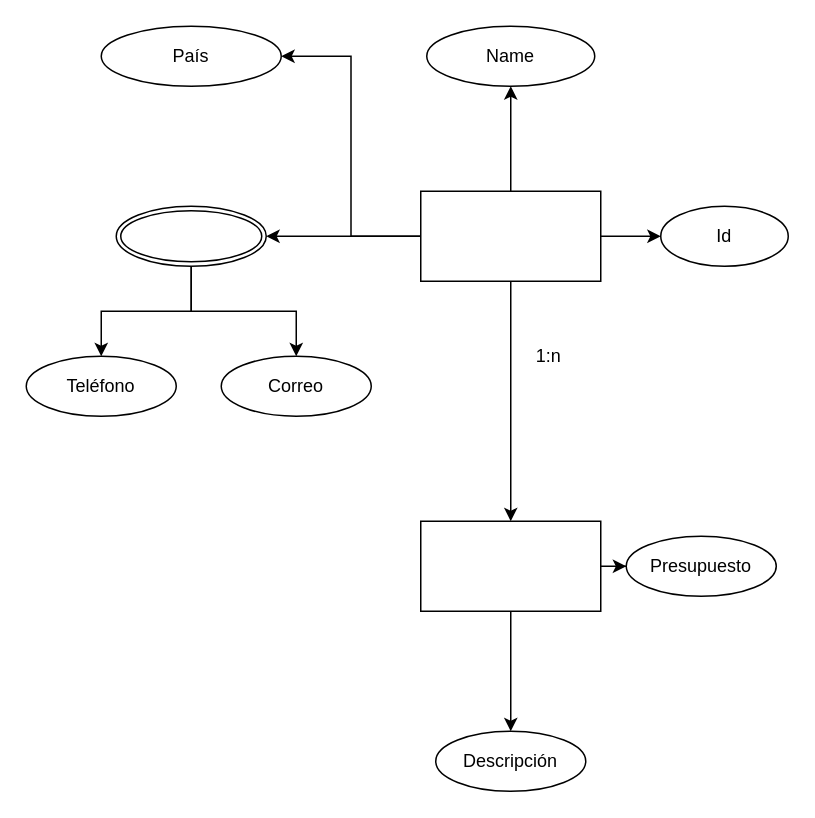
The diagram is 815 pixels wide and 818 high, and some of its shapes have lost their labels. The shapes that lost their labels are listed below. From the top down, each one's centre as x and y in pixels, then its label:
(x=190, y=235): Datos contacto
(x=510, y=235): Usuario
(x=510, y=565): Proyecto
